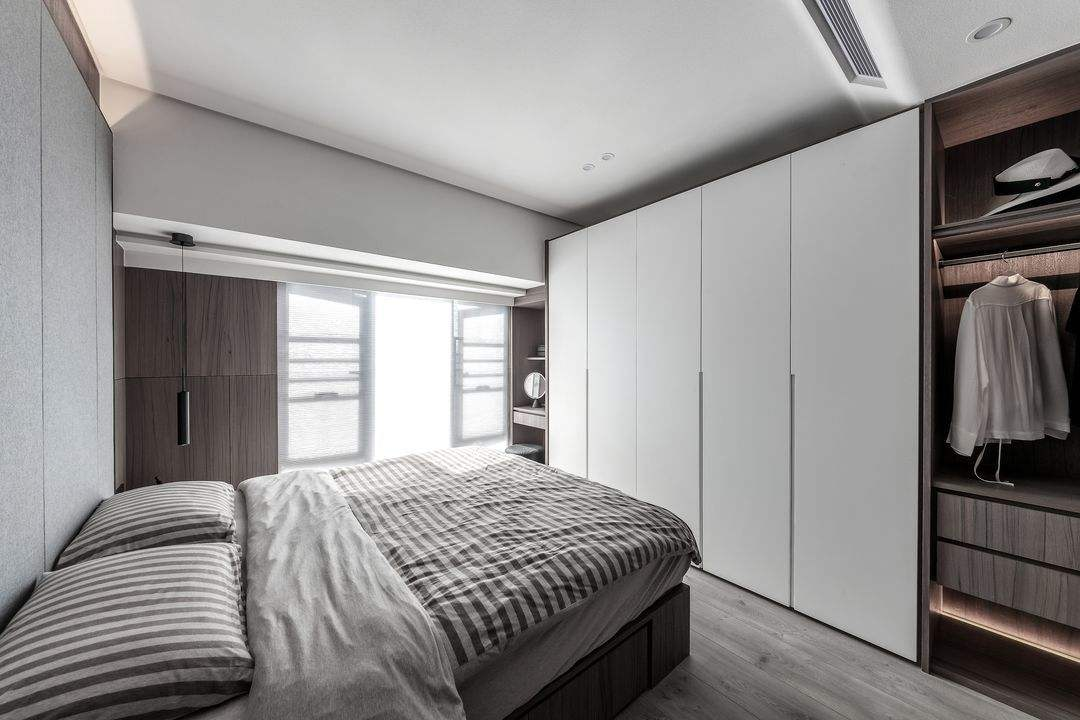床: (25, 444, 726, 713)
枕头: (5, 482, 250, 692)
灯: (963, 14, 1012, 47), (579, 151, 608, 175)
